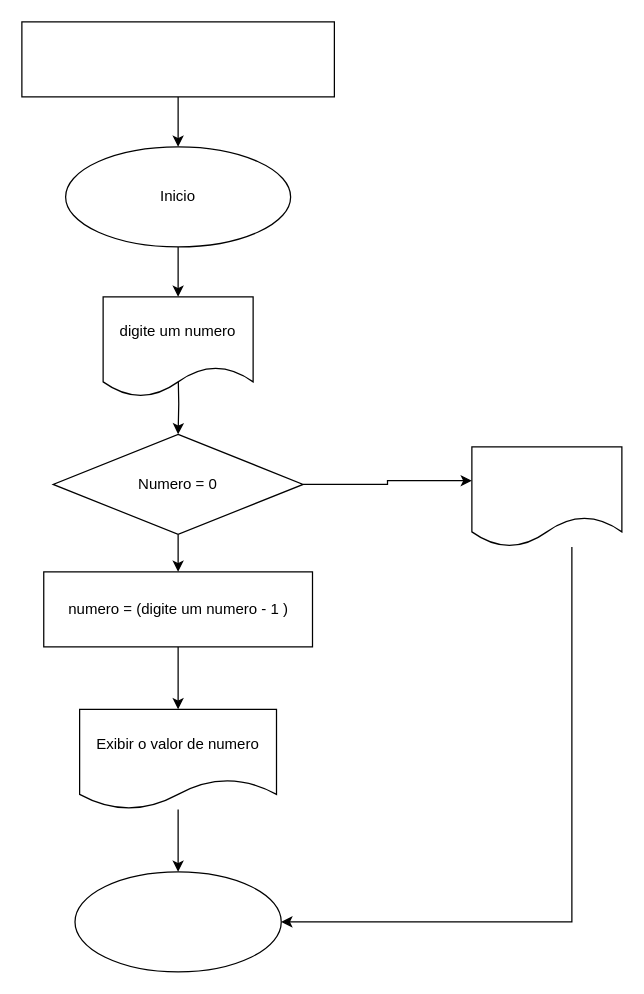
This 644x994 diagram has some shape labels left out. The shapes that lost their labels are listed below. From the top down, each one's centre as x and y in pixels, then its label:
the point at 177,59: Escrever seu Antecessor
the point at 546,496: Numero não pode ser 0
the point at 177,921: Fim
